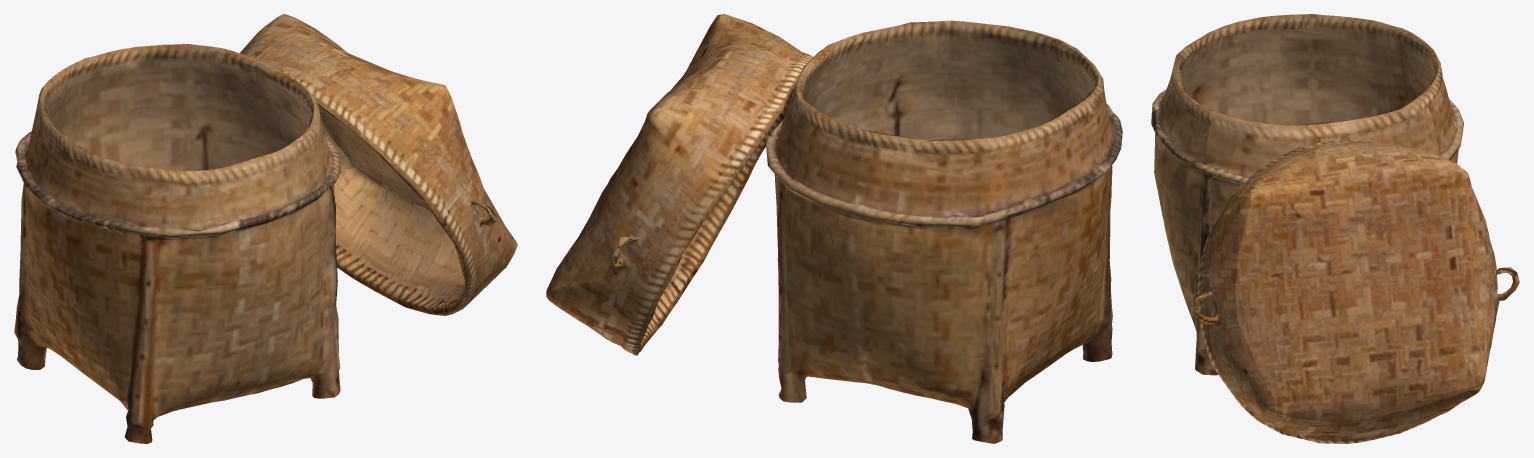
File: WickerBasket.obj
3 renders of one model, left to right at view 1: azimuth 30°, elevation 25°; view 2: azimuth 150°, elevation 25°; view 3: azimuth 270°, elevation 25°, orthographic. The views are drawn at different scales.
Visible parts, largest first — view 1: Wicker; view 2: Wicker; view 3: Wicker.
Part boxes in pixels (box(x1,y1,x2,y2)): Wicker: box(14, 14, 517, 443); Wicker: box(546, 14, 1122, 443); Wicker: box(1151, 14, 1519, 443).
Bounding box in the file's own units: 0.3466 × 0.2004 × 0.2534.
1 material, 1 textured.
